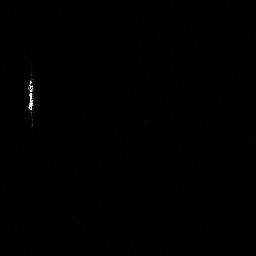ship: (23, 76, 38, 113)
